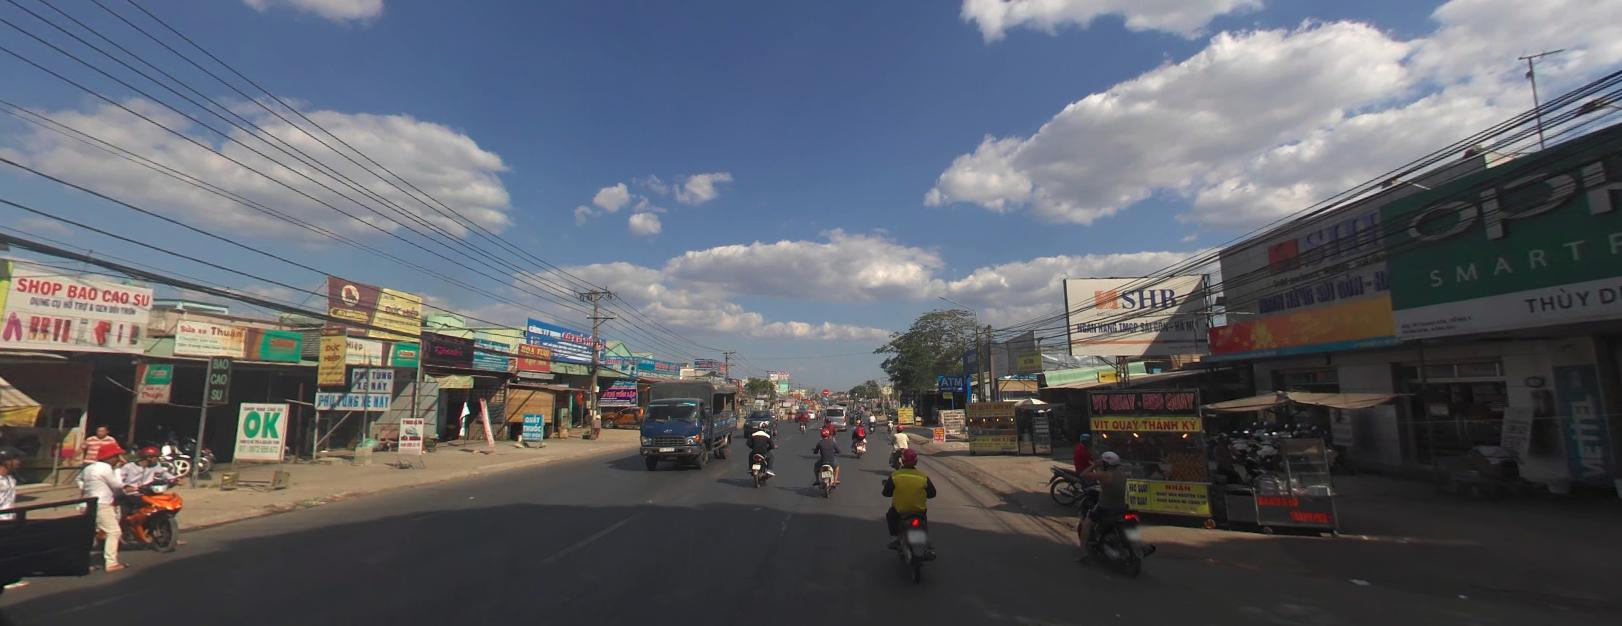Cam nguoc chieu: (822, 387, 828, 393), (822, 387, 828, 392), (823, 387, 828, 392)
Hieu lenh: (822, 394, 828, 400), (822, 394, 828, 399), (822, 395, 828, 400)
